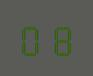eight: (46, 20, 72, 56)
zero: (19, 20, 45, 56)
